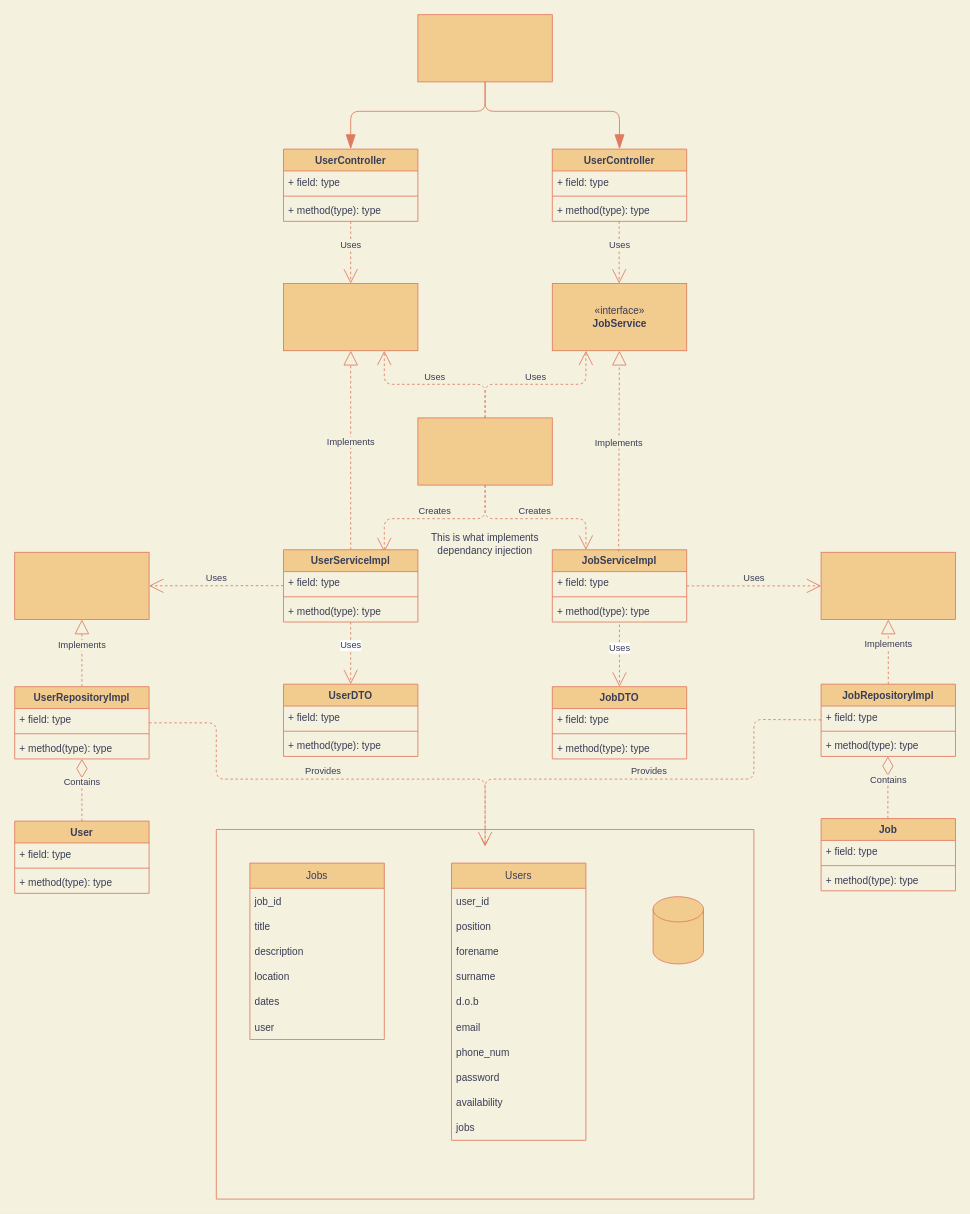
Image size: 970x1214. Some labels were removed from this diagram. The shapes that lost their labels are listed below. From the top down, each one's centre as x and y in pixels, then its label:
At (x=484, y=48): "Client".
At (x=350, y=317): "«interface» UserService".
At (x=484, y=451): "Assembler (Spring Boot)".
At (x=81, y=585): "«interface» UserRepository".
At (x=888, y=585): "«interface» JobRepository".
At (x=678, y=930): "SQL".
